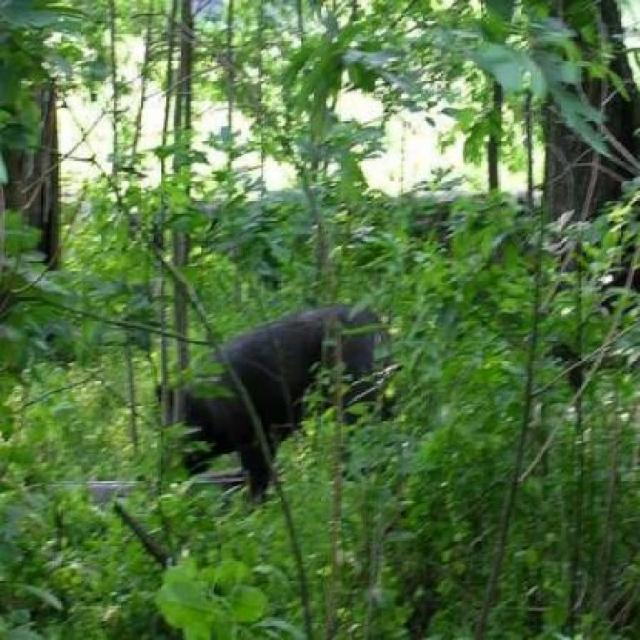pig: (129, 274, 450, 538)
